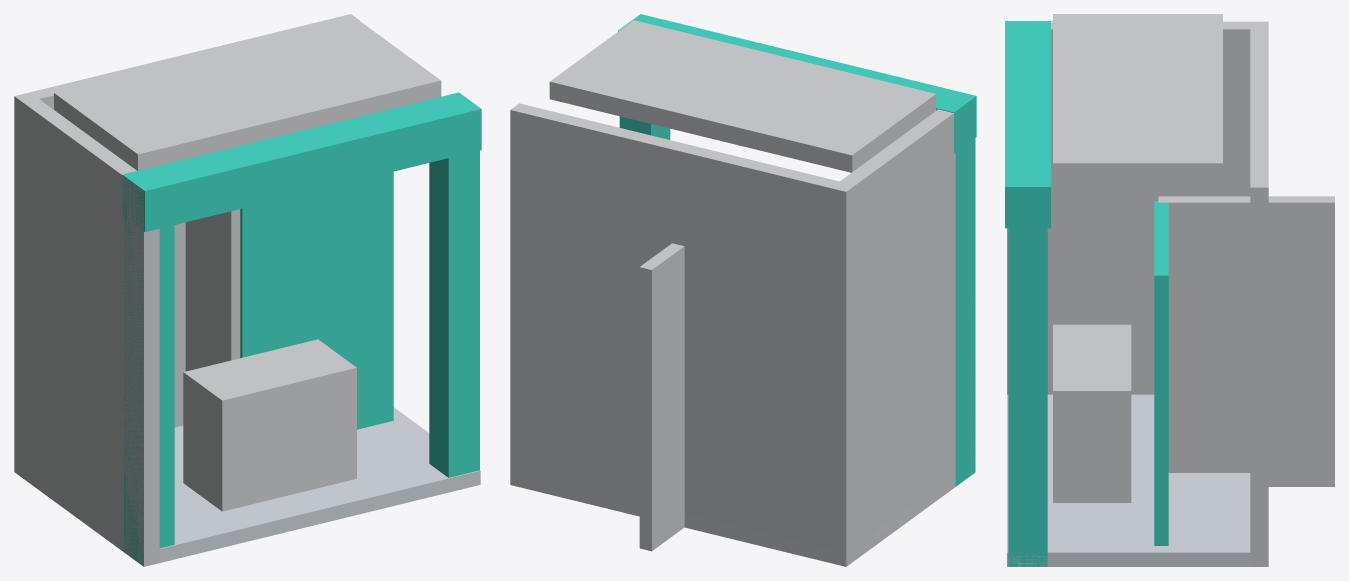
3 views of the same model, side by side, from view 1: azimuth 30°, elevation 25°; view 2: azimuth 150°, elevation 25°; view 3: azimuth 270°, elevation 25° (orthographic).
Visible parts, largest first — view 1: Exhibition Booth Concept; view 2: Exhibition Booth Concept; view 3: Exhibition Booth Concept.
Boxes of the visible parts, box(x1,y1,x2,y2) form: Exhibition Booth Concept: box(14, 14, 481, 566); Exhibition Booth Concept: box(510, 14, 976, 566); Exhibition Booth Concept: box(1005, 14, 1334, 566).
Bounding box in the file's own units: 3 × 3.34 × 2.52.
